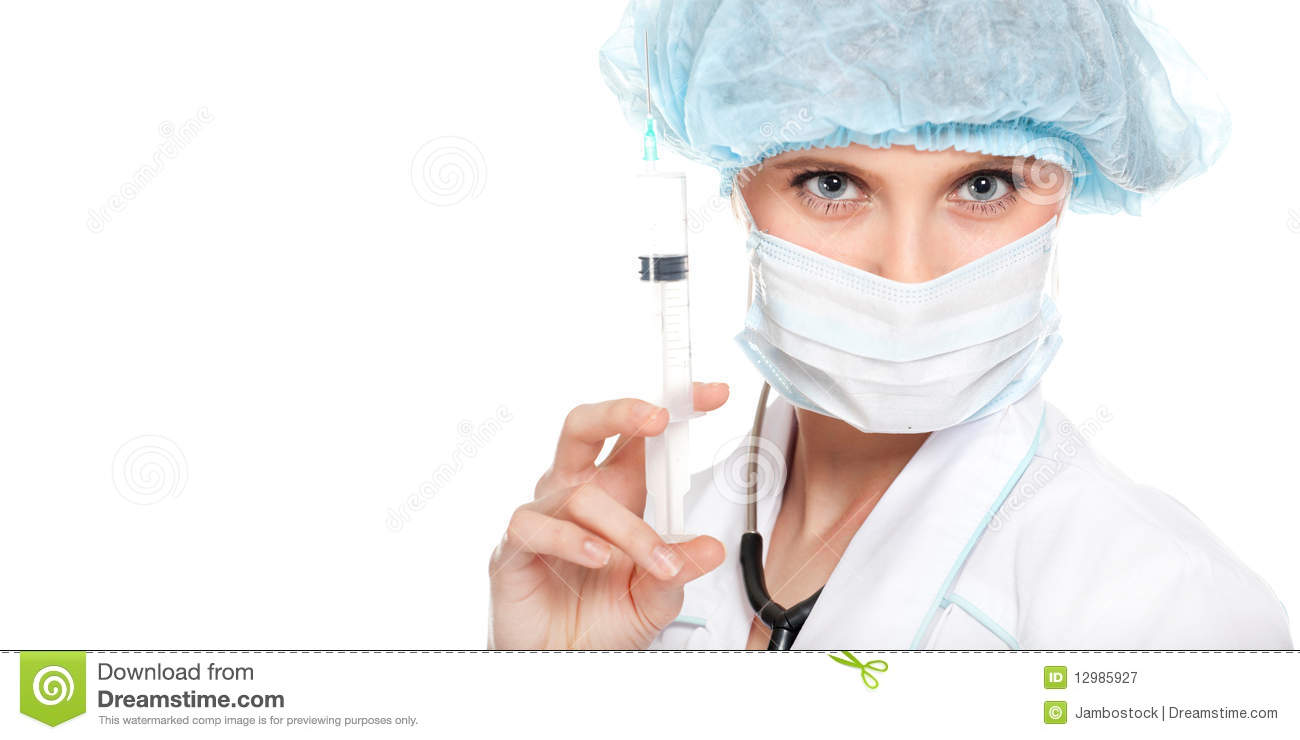mask: (732, 230, 1055, 436)
